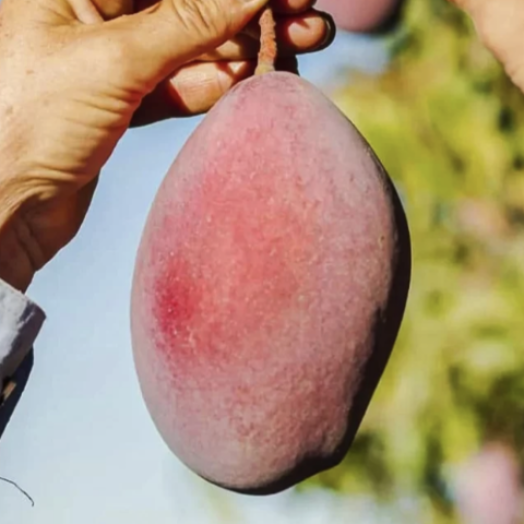mango: (107, 54, 446, 501)
